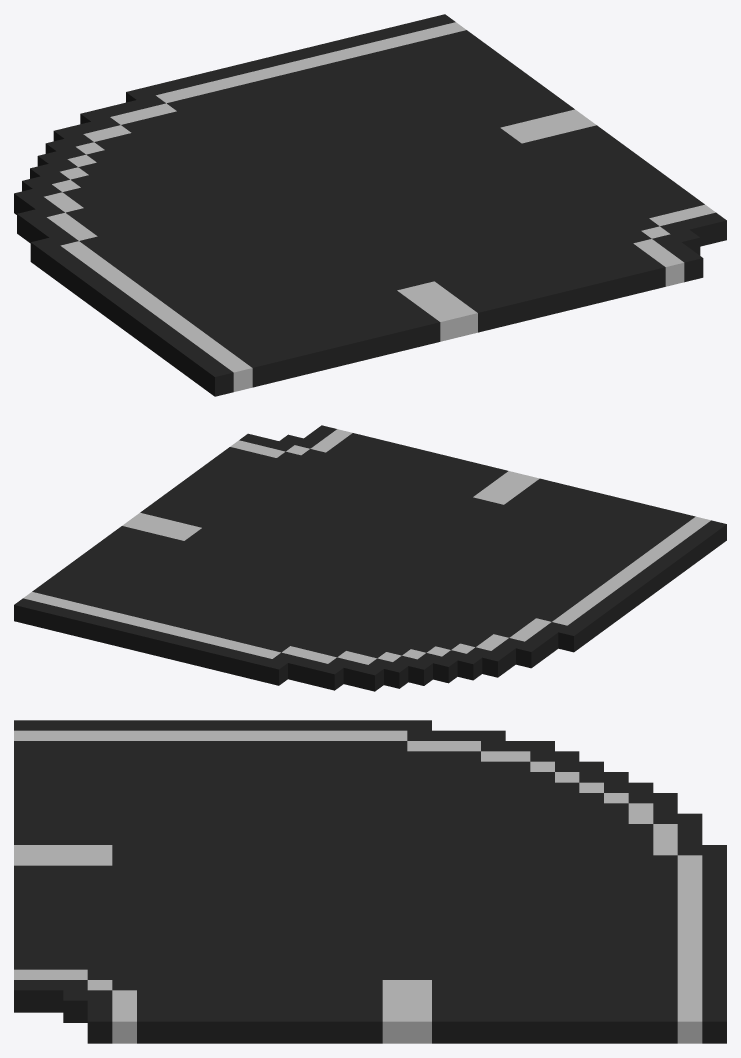
File: road-rounded-curve-3.gltf
The picture shows the model from 3 angles, top to bottom: view 1: azimuth 30°, elevation 25°; view 2: azimuth 150°, elevation 25°; view 3: azimuth 270°, elevation 25°; orthographic projection. The views are drawn at different scales.
Parts seen in each view (by area): view 1: road-rounded-curve-3; view 2: road-rounded-curve-3; view 3: road-rounded-curve-3.
Boxes of the visible parts, <box> form: road-rounded-curve-3: <box>14,14,726,396</box>; road-rounded-curve-3: <box>14,425,726,691</box>; road-rounded-curve-3: <box>14,720,726,1043</box>.
Size of the model in its own units: 2.9 by 0.1 by 2.9.
Materials: 1 (1 with a texture image).
